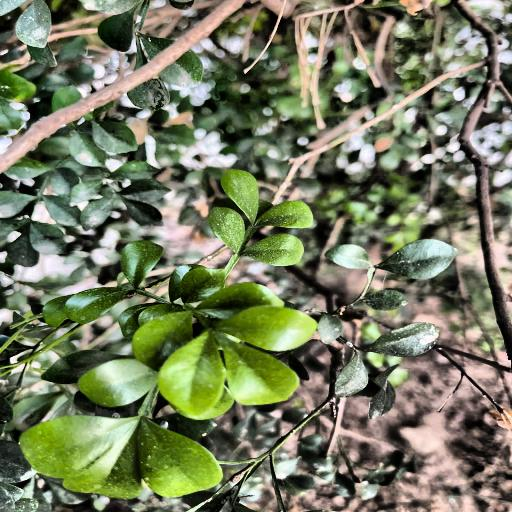la xanh: (87, 267, 293, 512)
